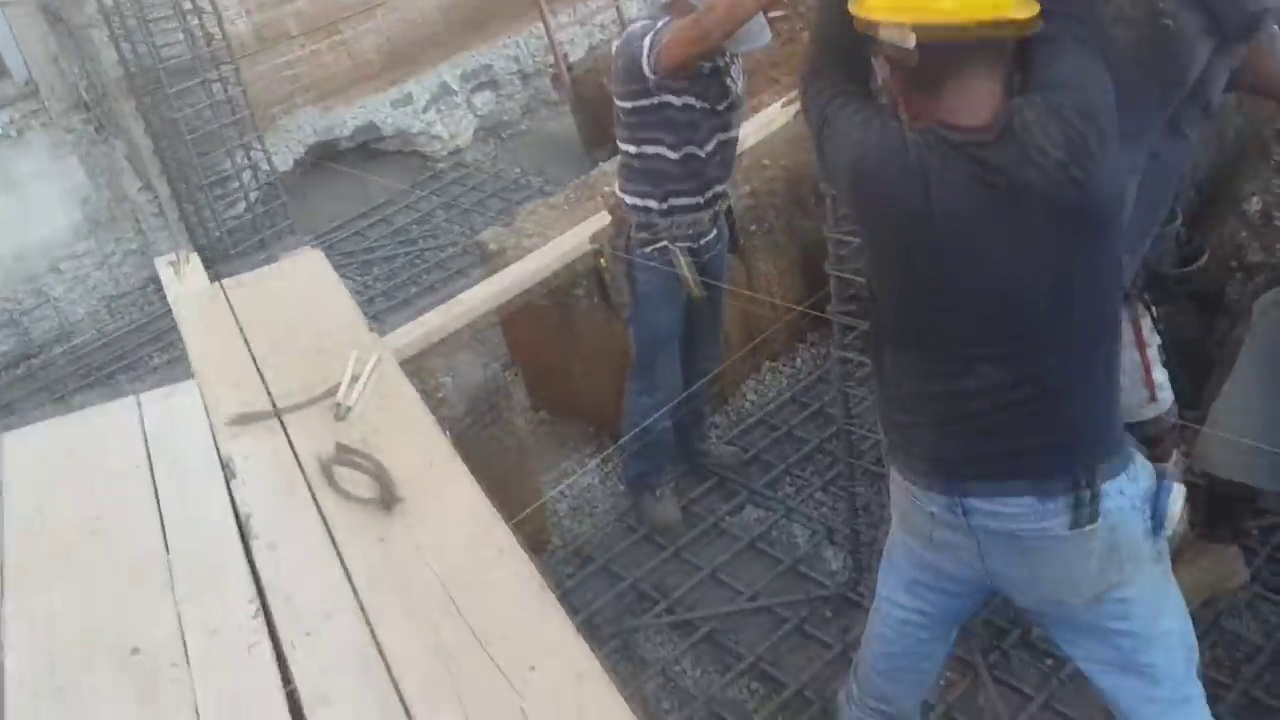helmet: (849, 8, 1050, 48)
helmet-on: (854, 2, 1052, 123)
person: (801, 0, 1230, 720), (597, 0, 769, 488), (801, 0, 940, 315)
